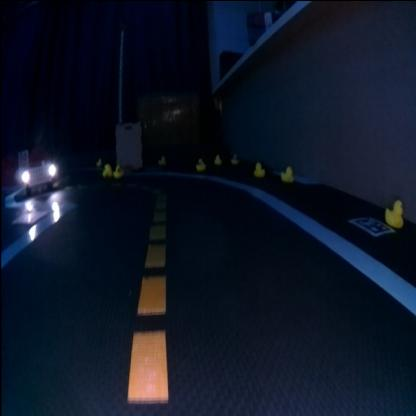Duckie: (385, 198, 403, 226), (281, 164, 294, 180), (254, 162, 265, 176), (195, 157, 206, 169), (114, 164, 124, 176), (103, 164, 110, 176), (214, 152, 222, 162), (159, 154, 165, 162), (233, 154, 238, 162)
Duckiebot: (18, 152, 58, 192)
QR code: (348, 215, 394, 234)
